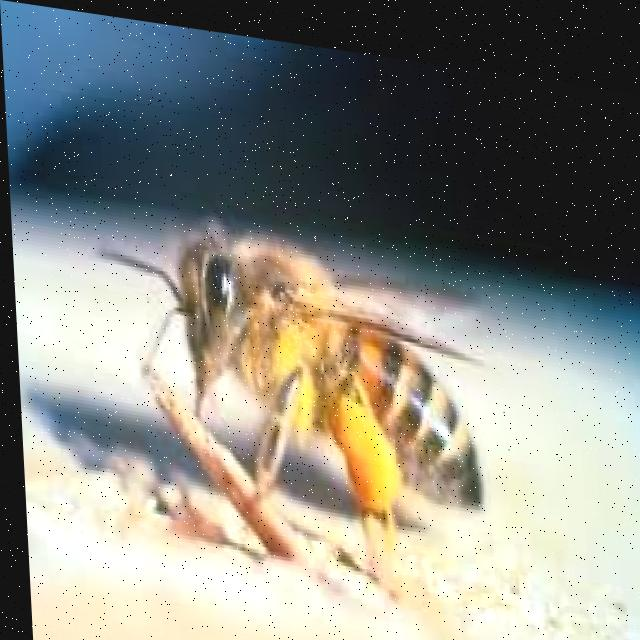Apis-mellifera-scutellata: (73, 171, 513, 552)
